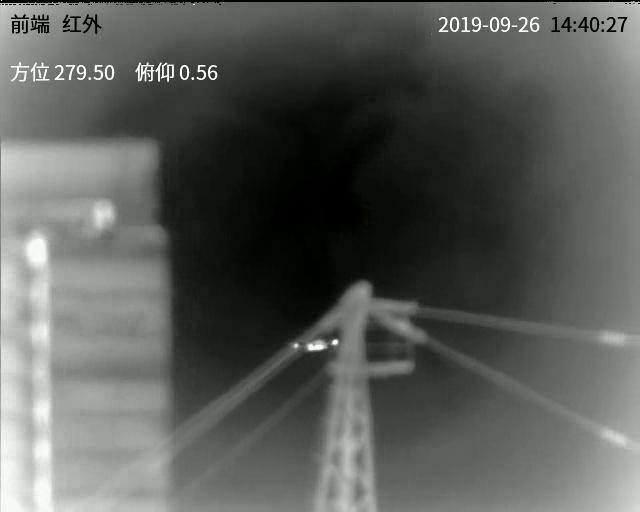DRONE: (292, 337, 340, 352)
